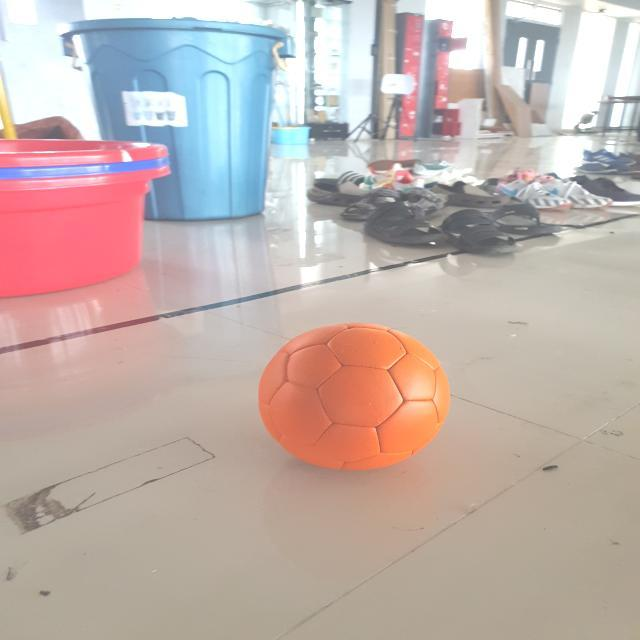bola: (252, 314, 456, 480)
